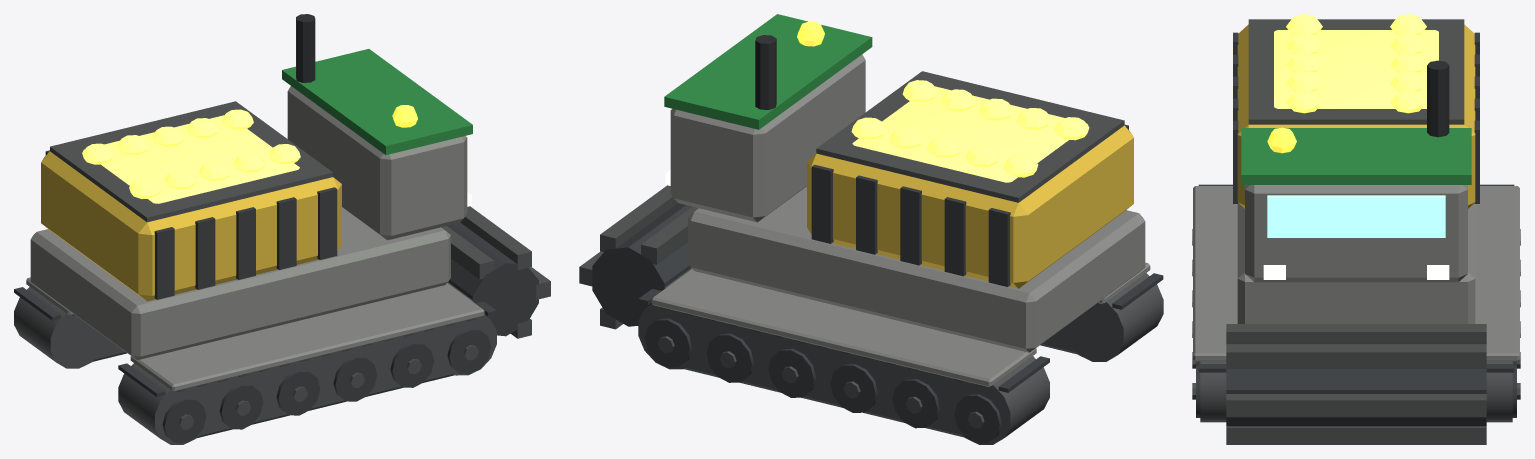
File: u_harv.glb
The picture shows the model from 3 angles, left to right: view 1: azimuth 30°, elevation 25°; view 2: azimuth 150°, elevation 25°; view 3: azimuth 270°, elevation 25°; orthographic projection. The views are drawn at different scales.
Visible parts, largest first — view 1: Harv_Walls, Harv_Details, Harv_Foundation, Harv_load, Harv_Frame, Harv_rotor; view 2: Harv_Walls, Harv_Details, Harv_Foundation, Harv_load, Harv_Frame, Harv_rotor; view 3: Harv_Walls, Harv_rotor, Harv_Details, Harv_load, Harv_Foundation, Harv_Frame.
Boxes of the visible parts, x1,y1,x2,y2 form: Harv_Walls: [26, 86, 484, 391]; Harv_Details: [14, 14, 496, 429]; Harv_Foundation: [14, 287, 496, 444]; Harv_load: [82, 109, 300, 203]; Harv_Frame: [162, 328, 490, 443]; Harv_rotor: [441, 206, 550, 338]; Harv_Walls: [651, 54, 1150, 387]; Harv_Details: [638, 14, 1163, 428]; Harv_Foundation: [638, 273, 1163, 444]; Harv_load: [851, 80, 1089, 182]; Harv_Frame: [644, 318, 1001, 443]; Harv_rotor: [579, 185, 698, 329]; Harv_Walls: [1193, 19, 1519, 361]; Harv_rotor: [1226, 324, 1486, 444]; Harv_Details: [1192, 32, 1520, 399]; Harv_load: [1274, 14, 1438, 113]; Harv_Foundation: [1200, 361, 1512, 422]; Harv_Frame: [1196, 361, 1516, 417].
Size of the model in its own units: 1.42 by 0.9608 by 0.884.
